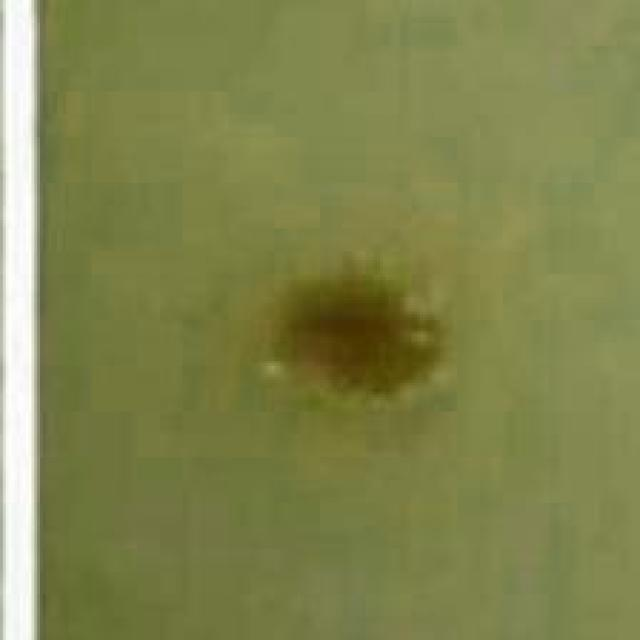others: (191, 138, 500, 536)
